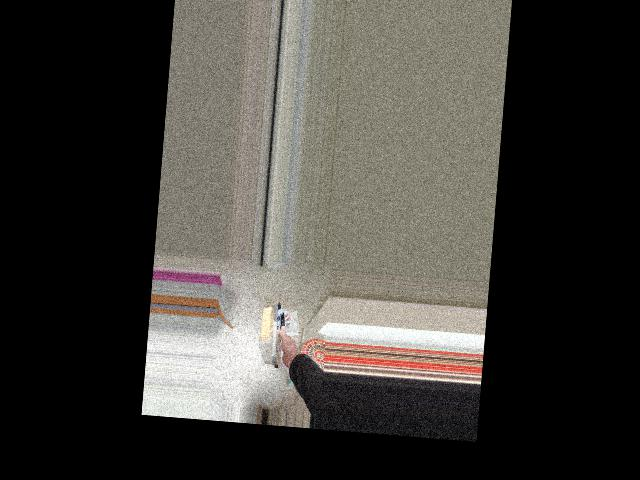cheese: (251, 301, 322, 375)
